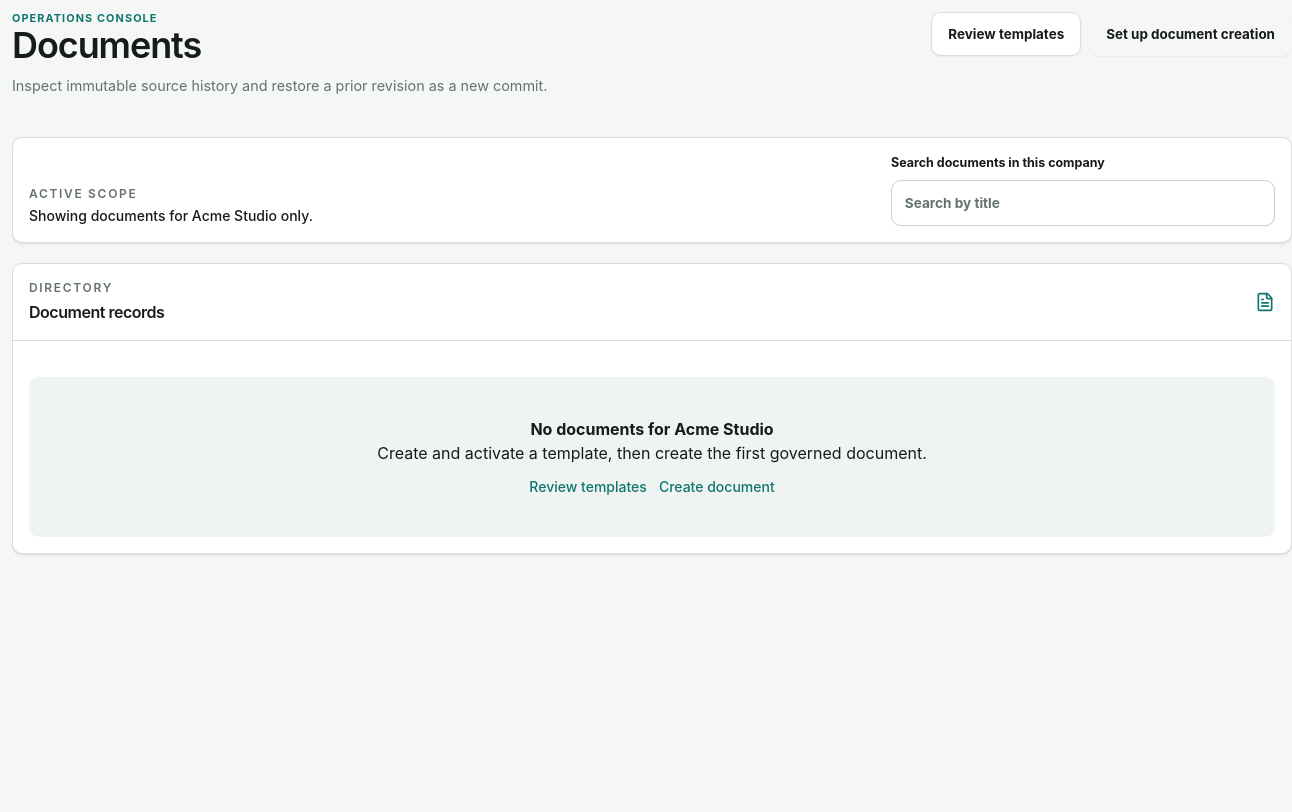
Test: DocumentsDashboard › distinguishes an active company with no documents from a search with no match
Expected: the text "No documents for Acme Studio" is shown, [530, 419, 774, 439]
Expected: the text "Create and activate a template" is shown, [377, 443, 927, 463]
Type "missing" into the field labelled "Search documents in this company". click: (1083, 203)
box: [891, 180, 1275, 226]
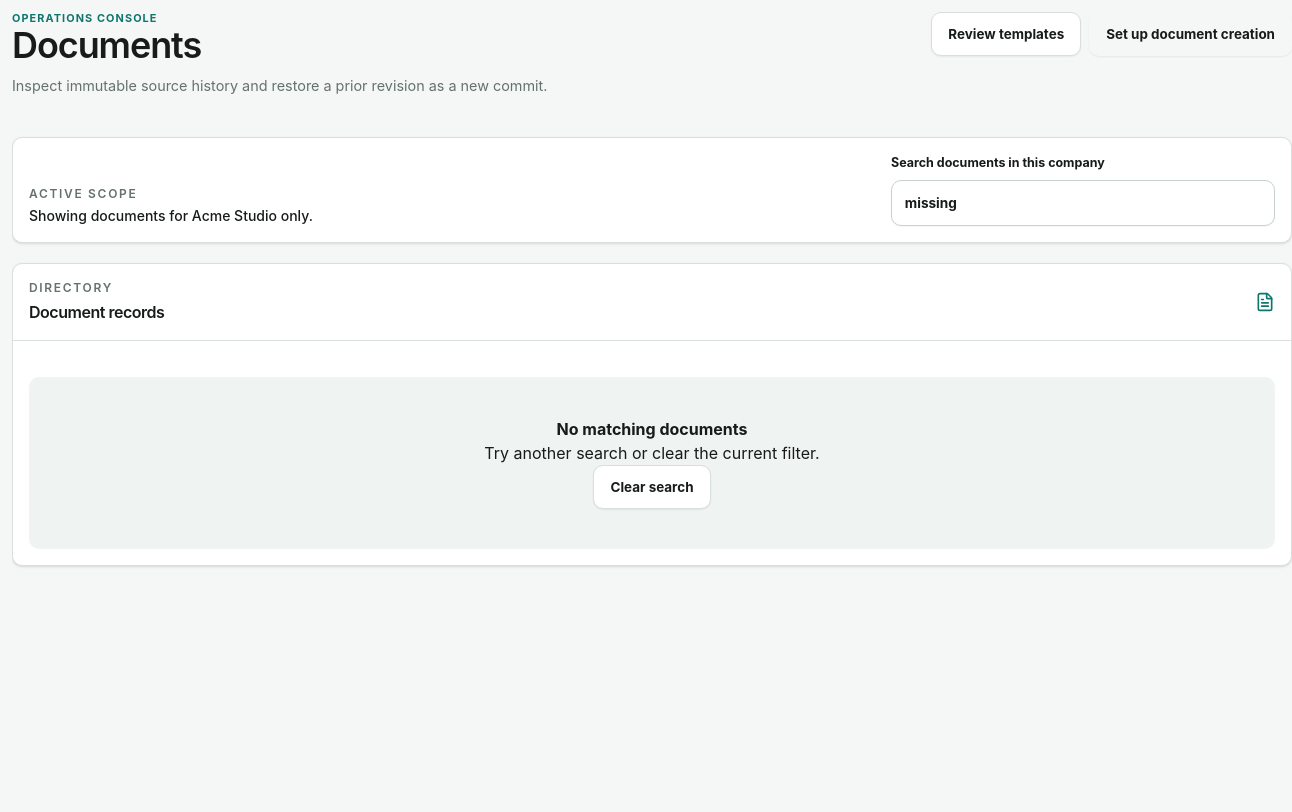
Expected: the text "No matching documents" is shown, [556, 419, 748, 439]
Click the button "Clear search". click: (652, 487)
box: [594, 465, 711, 509]
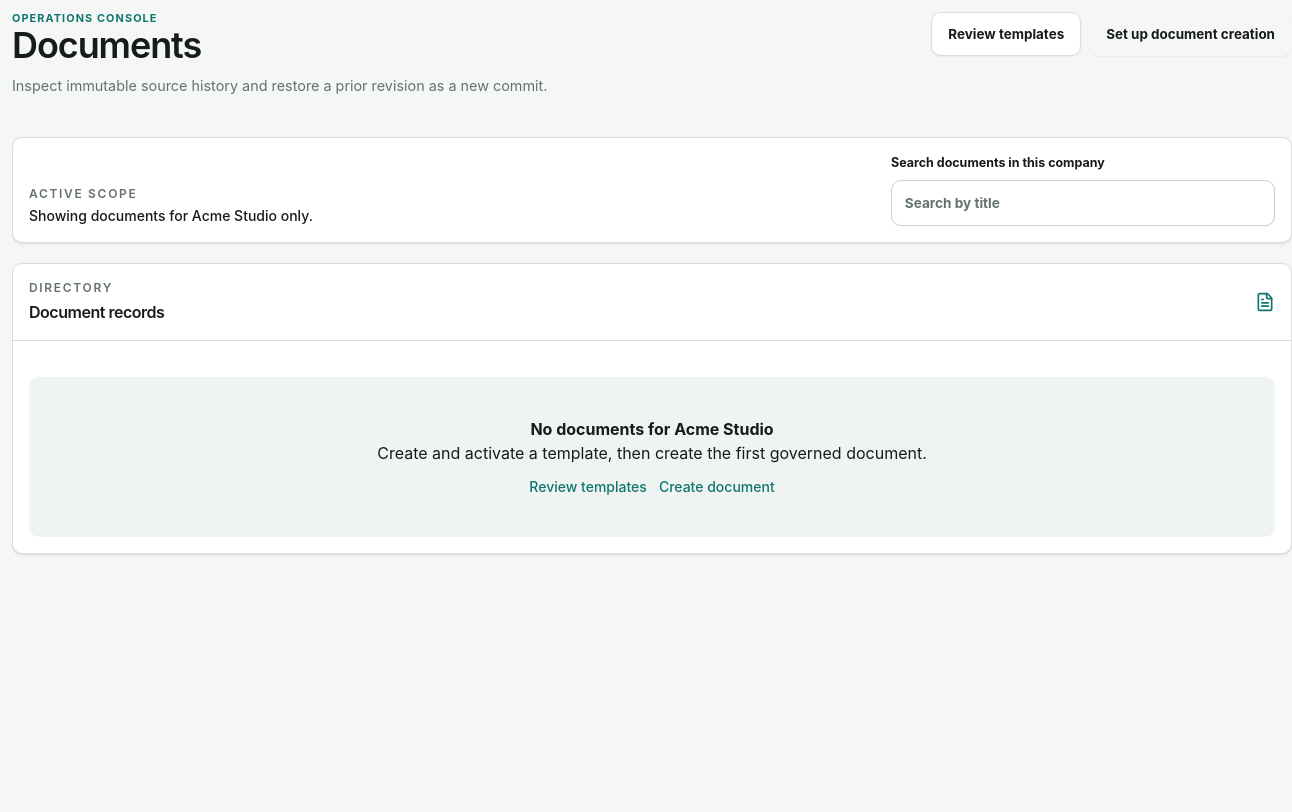
Expected: the text "No documents for Acme Studio" is shown, [530, 419, 774, 439]
